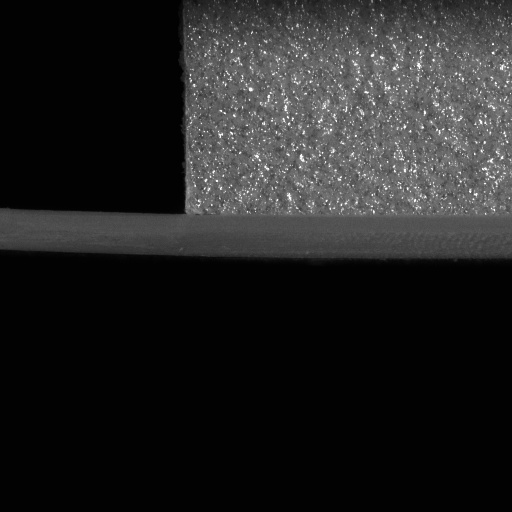changdai: (0, 205, 188, 260)
